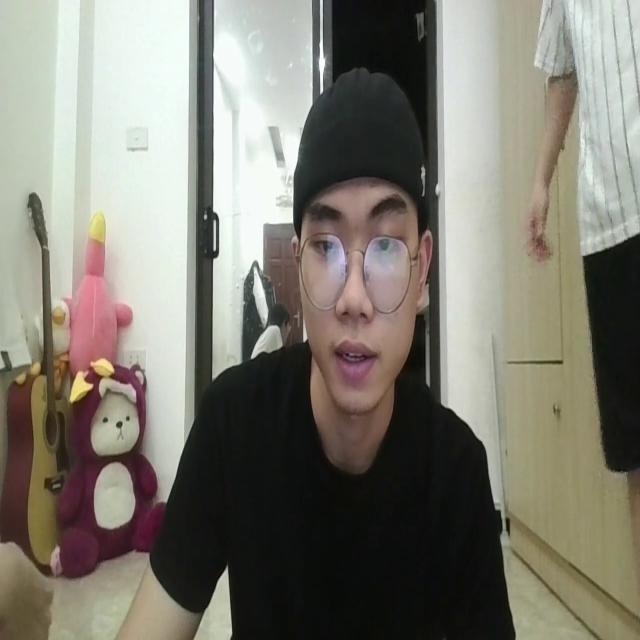extra_person: (518, 0, 640, 592)
student: (116, 61, 514, 640)
